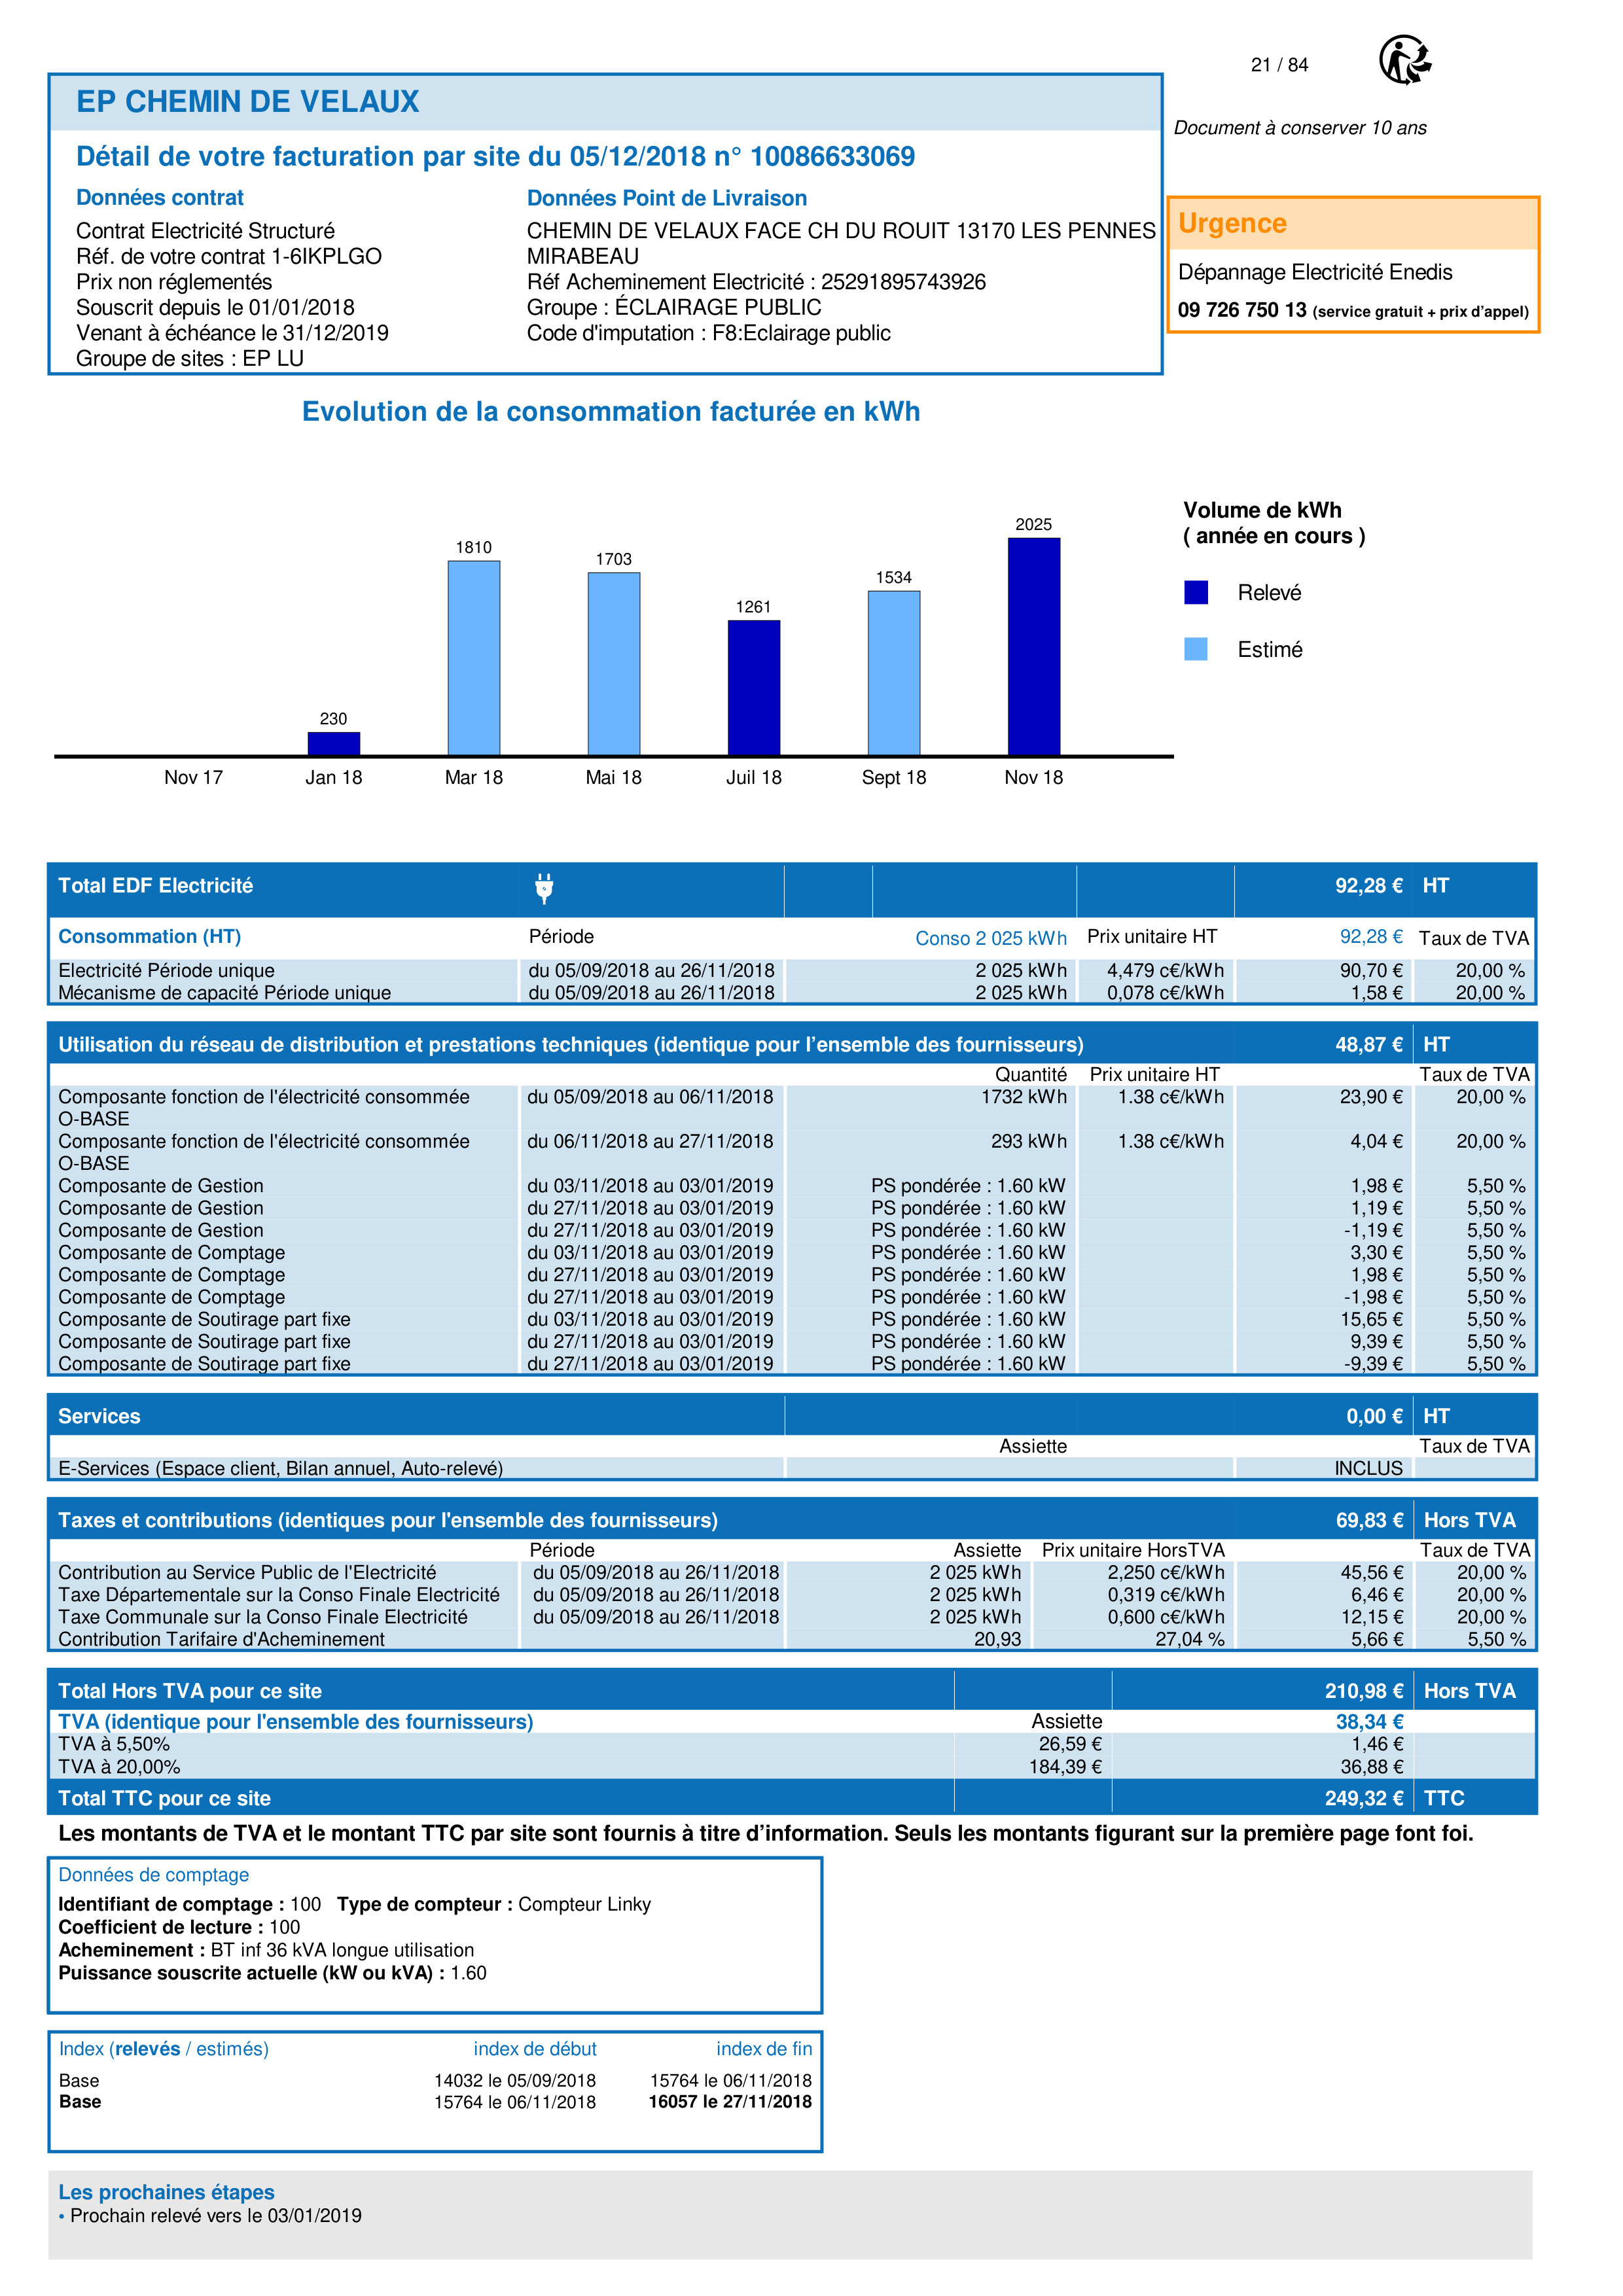area: (46, 2029, 822, 2150)
type_indicator: (49, 2034, 288, 2068)
